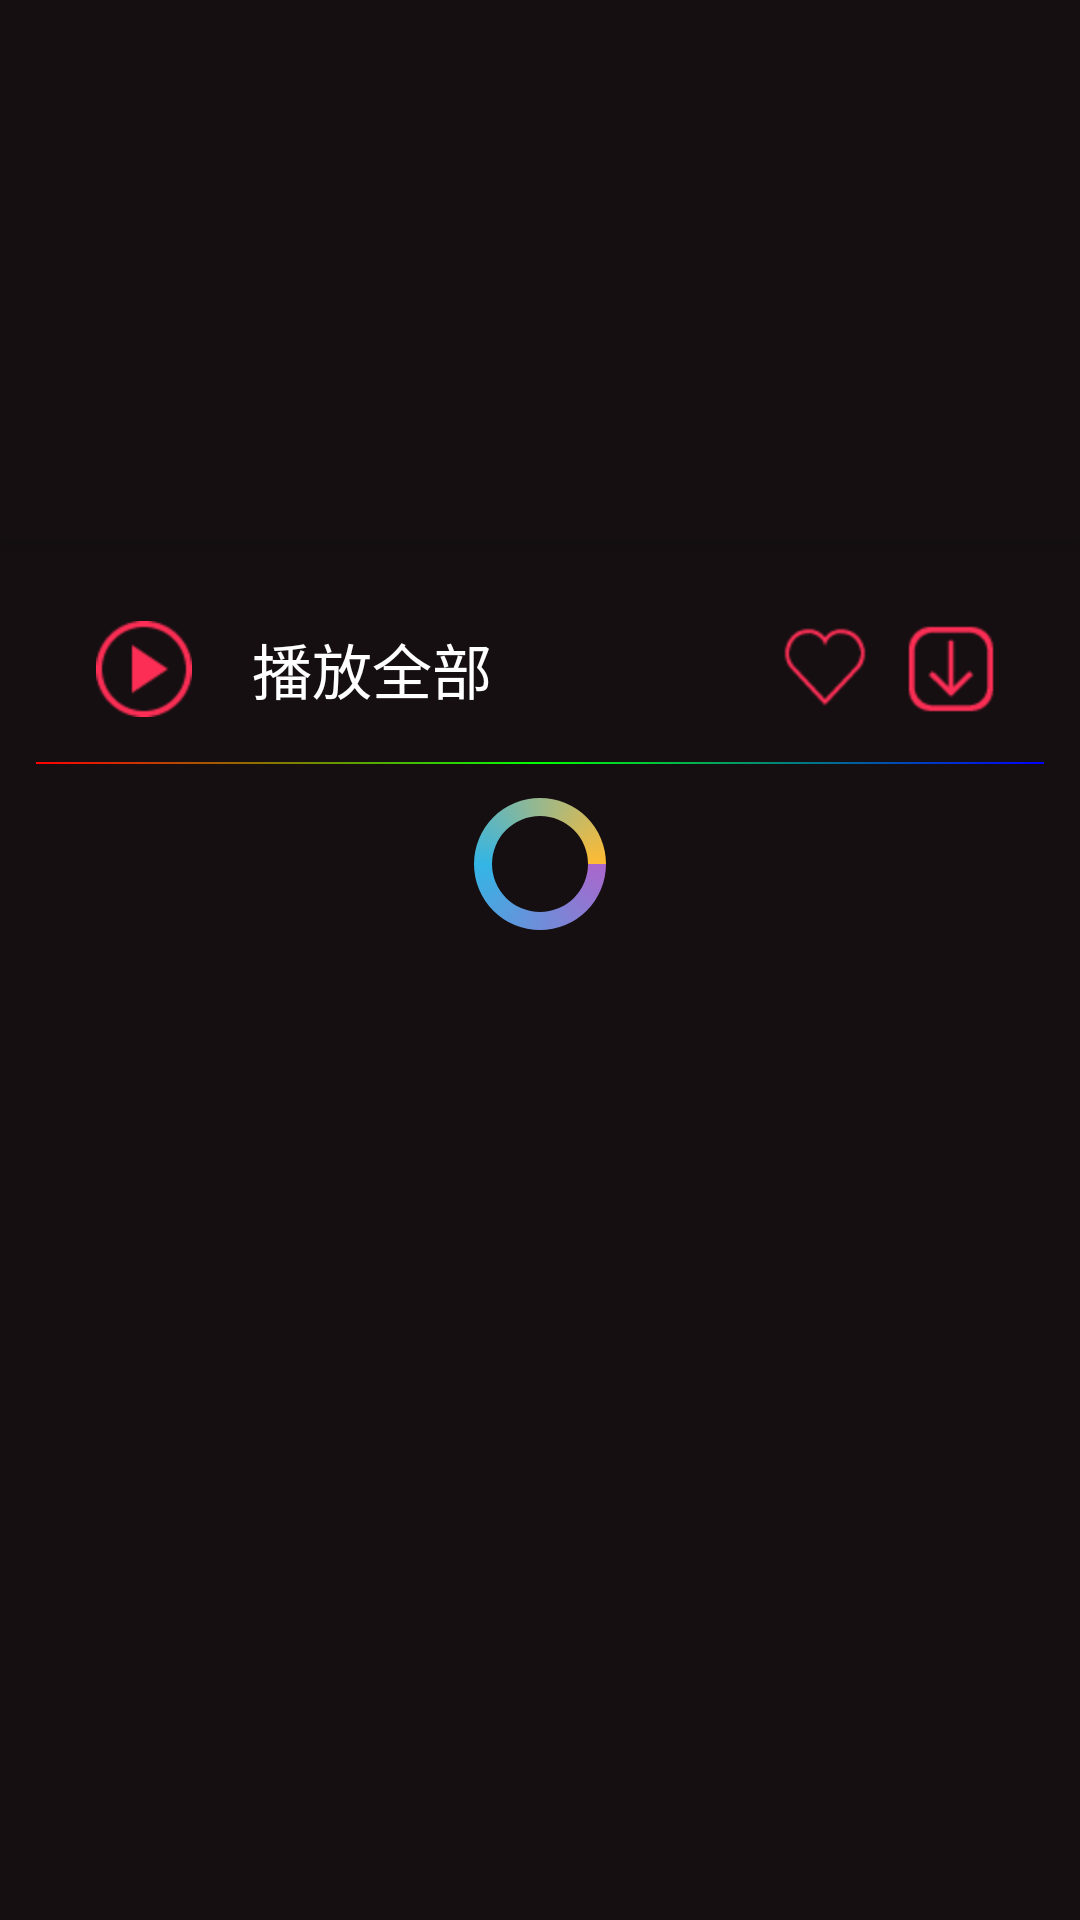

Point at icon controls on the screen. Image size 1080 × 1920, points as point (x, y).
bofang: point (144, 669)
